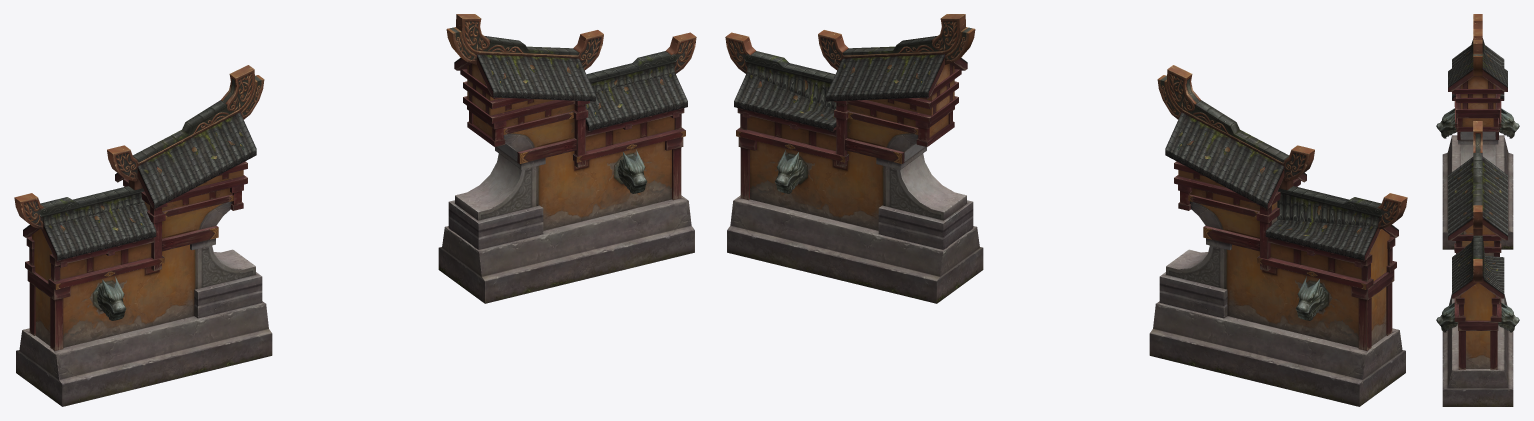
The picture shows the model from 3 angles, left to right: view 1: azimuth 30°, elevation 25°; view 2: azimuth 150°, elevation 25°; view 3: azimuth 270°, elevation 25°; orthographic projection. The views are drawn at different scales.
Parts seen in each view (by area): view 1: 52004; view 2: 52004; view 3: 52004.
Boxes of the visible parts, x1=… form: 52004: x1=14, y1=14, x2=696, y2=406; 52004: x1=725, y1=14, x2=1407, y2=406; 52004: x1=1436, y1=14, x2=1519, y2=406.
Size of the model in its own units: 1927 by 738 by 270.
